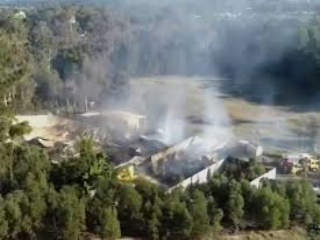smoke: (76, 74, 243, 163)
